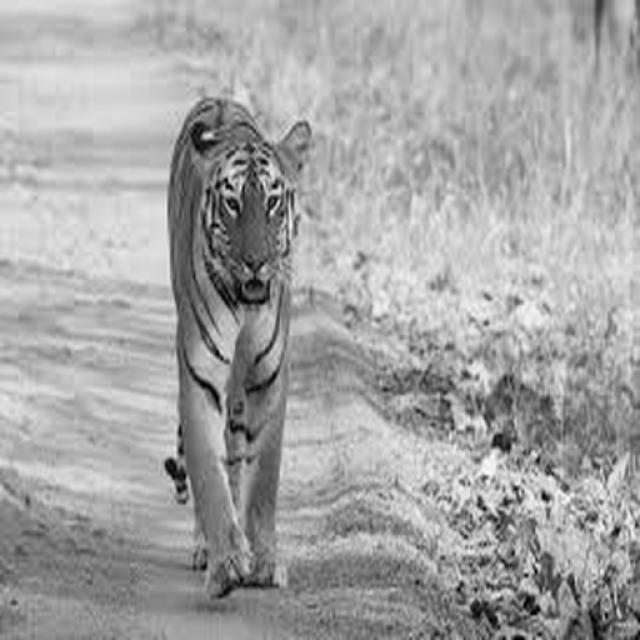Tiger: (162, 94, 314, 598)
